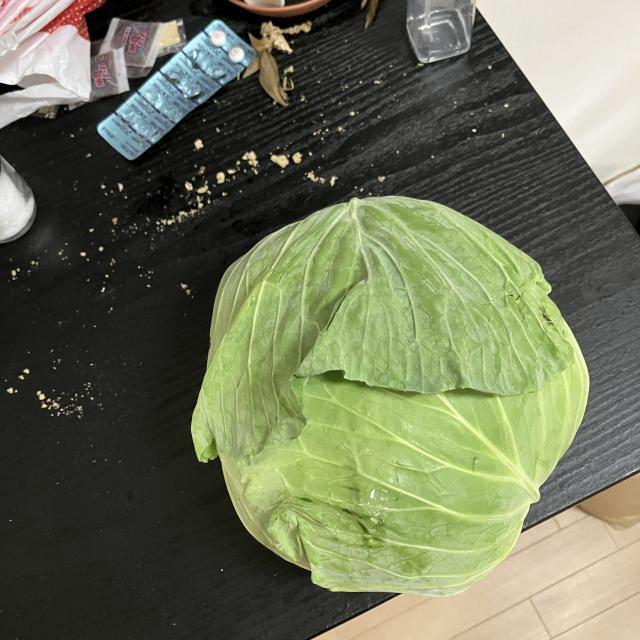cabbage: (183, 194, 592, 602)
